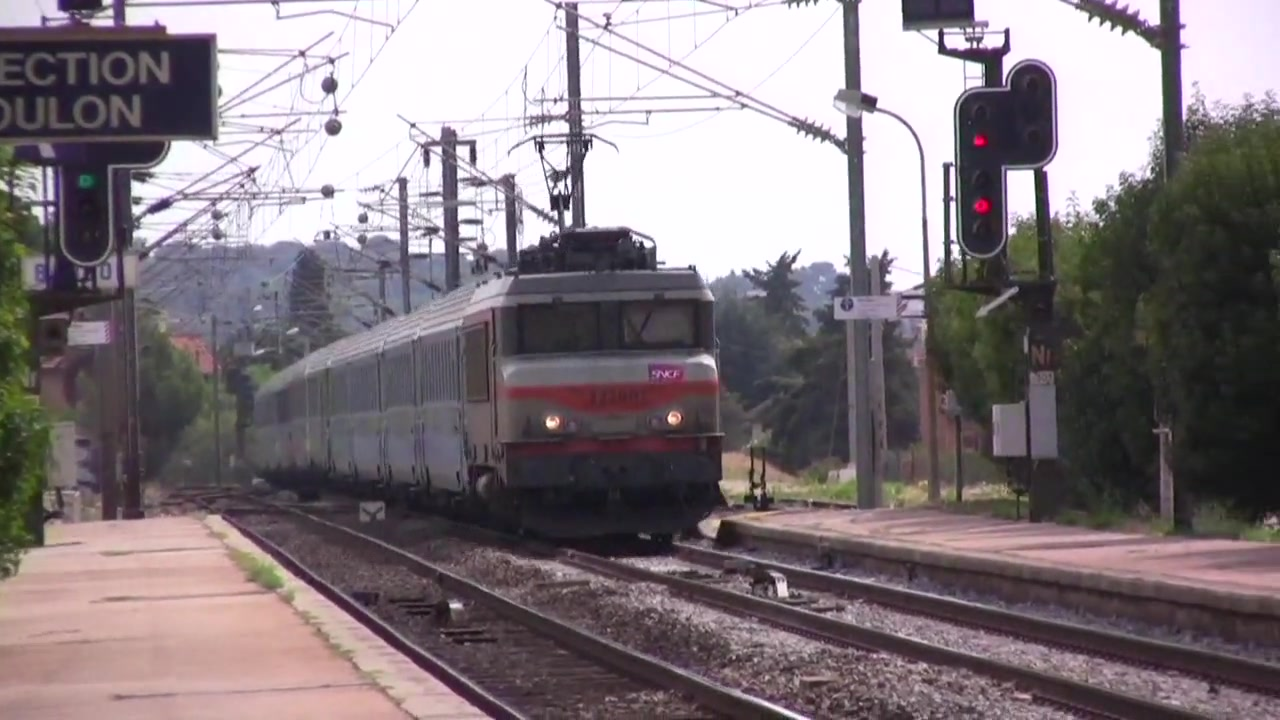train: (237, 228, 733, 520)
